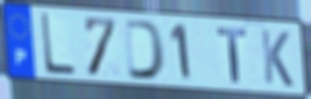1: (168, 23, 192, 83)
7: (83, 16, 119, 78)
D: (123, 17, 169, 82)
K: (259, 27, 295, 90)
L: (38, 11, 77, 78)
T: (215, 26, 249, 86)
